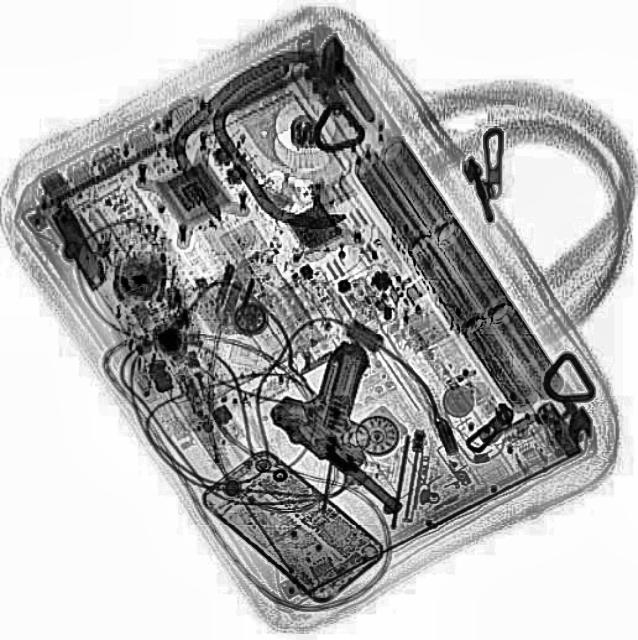Gun: (268, 337, 468, 515)
